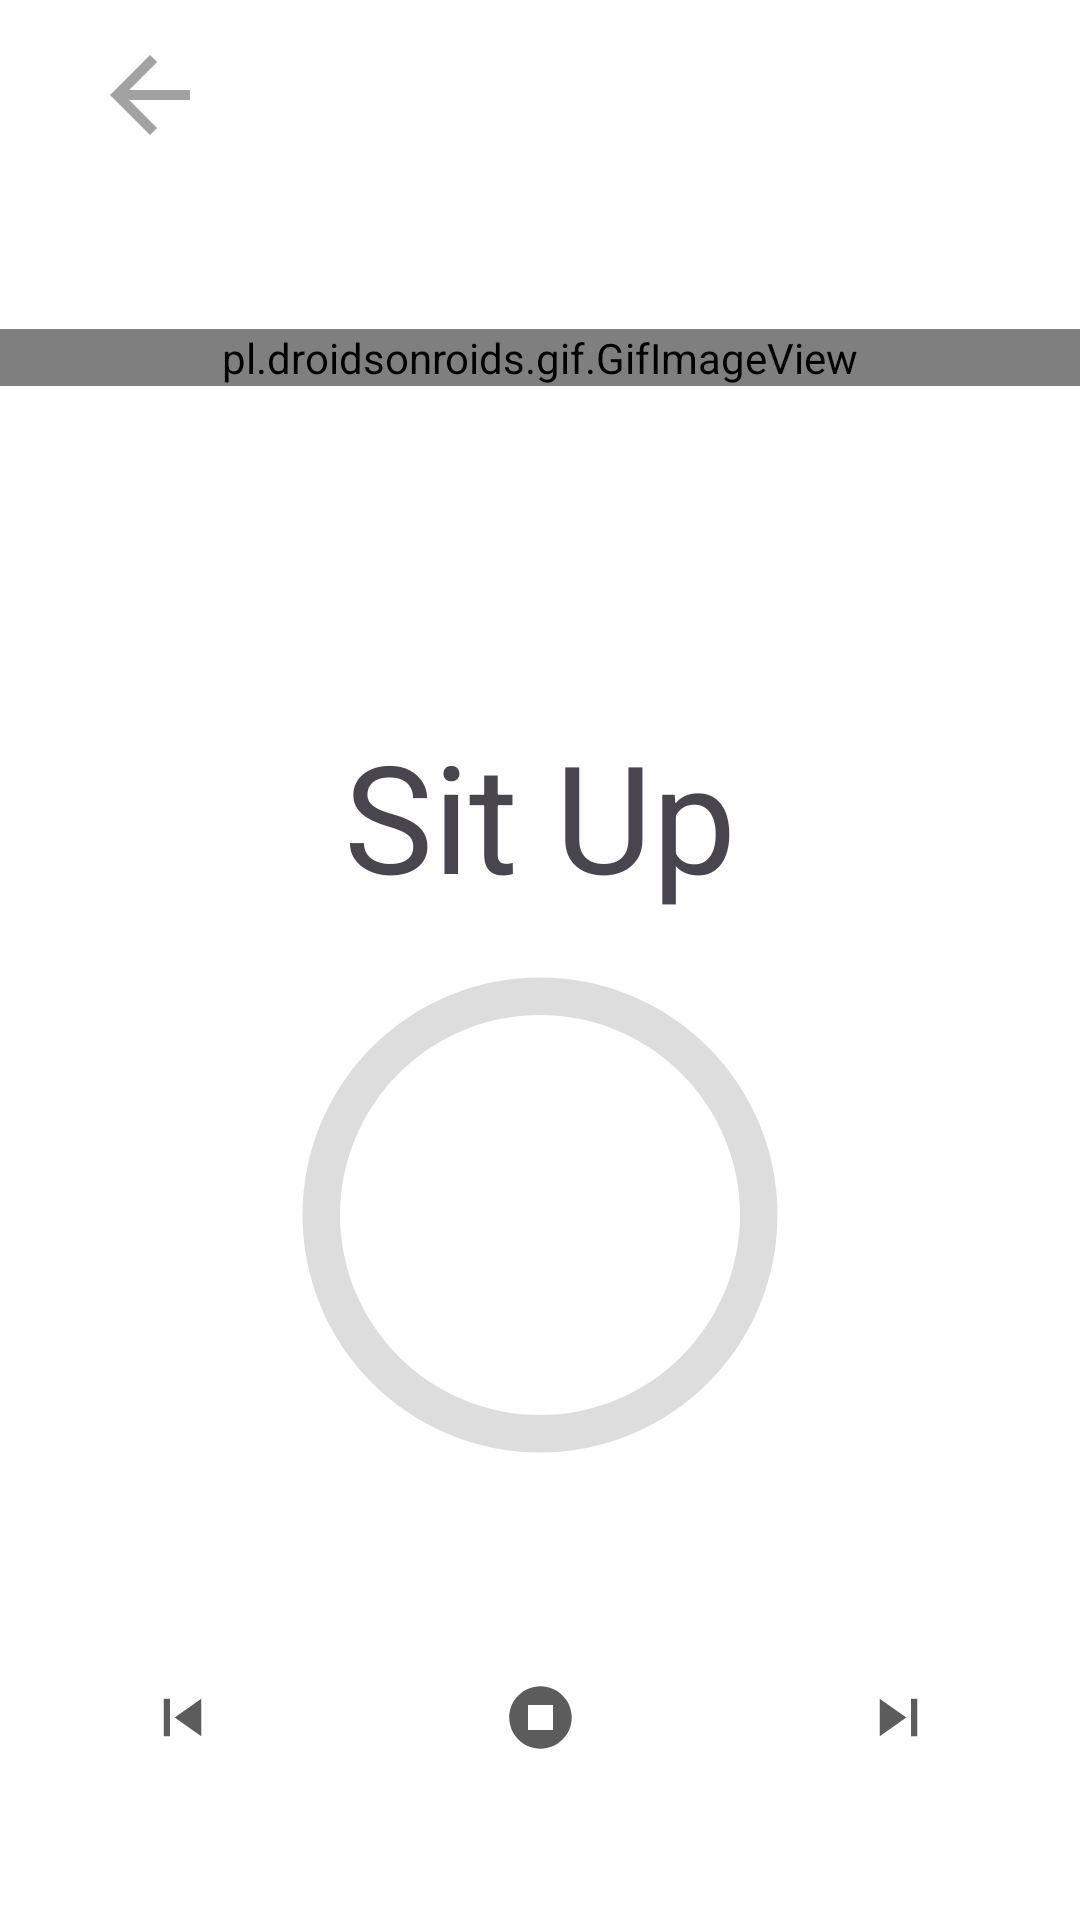

Named icons in this screenshot (1080px x 1920px) and their bounding boxes, (x1, y1, x2, y2):
backbtn: (110, 55, 190, 135)
